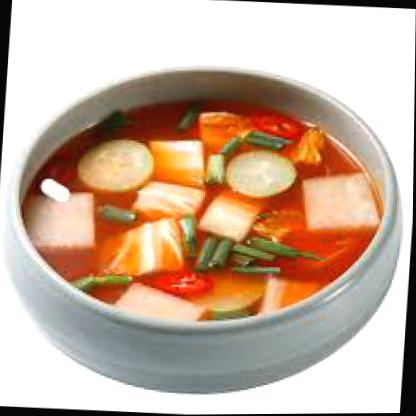nabak Kimchi: (3, 50, 402, 358)
